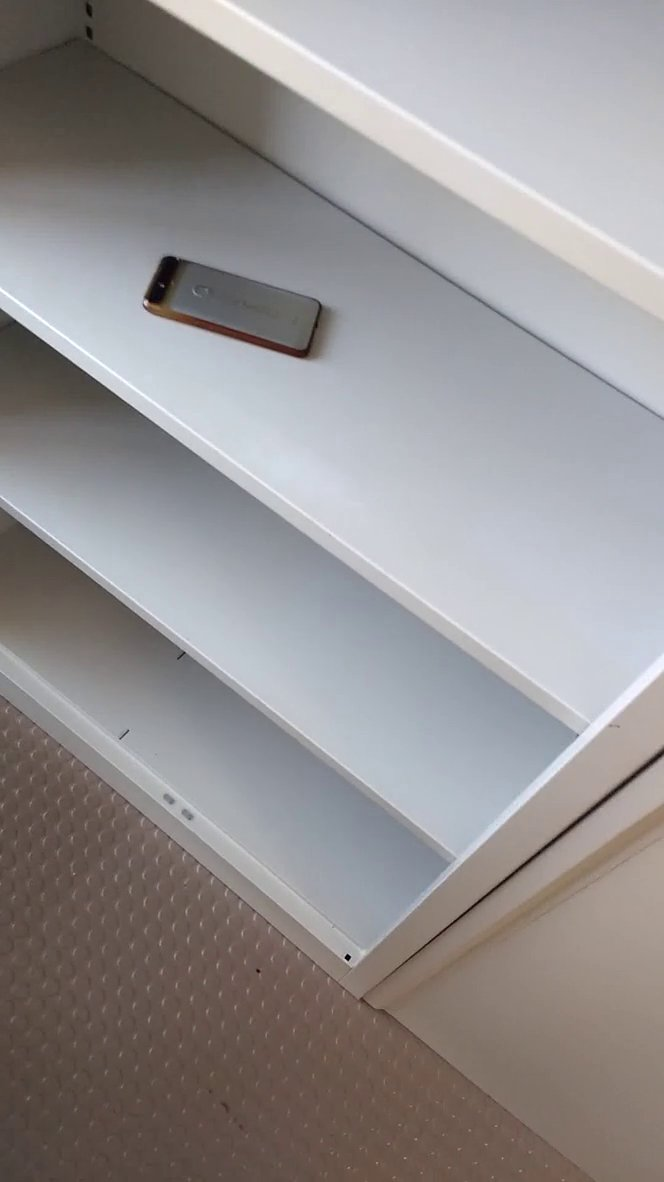phone: (130, 241, 335, 369)
